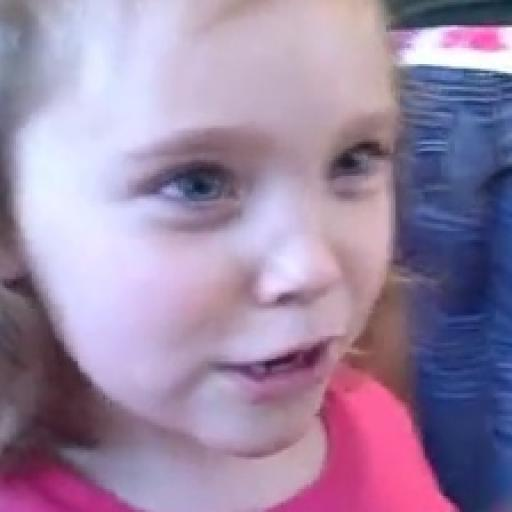Autism: (6, 5, 443, 453)
